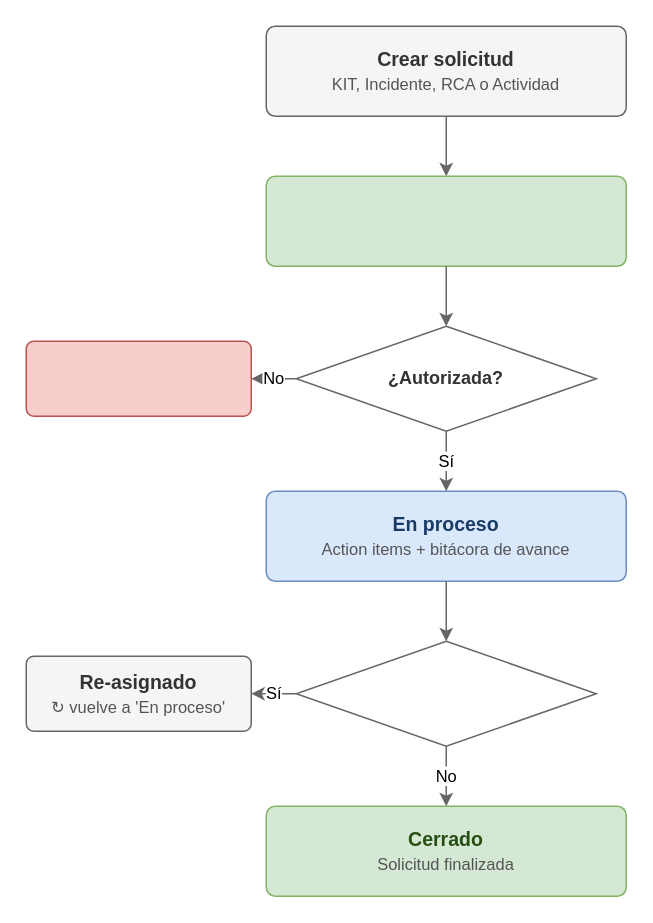
This 653x923 diagram has some shape labels left out. The box of each missing label's shape, as (x1, y1, x2, y2) in pixels:
Cancelada: (25, 340, 251, 416)
En espera de autorización Responsable y TQS asignados: (265, 175, 626, 266)
¿Requiere reasignación?: (295, 640, 596, 746)
